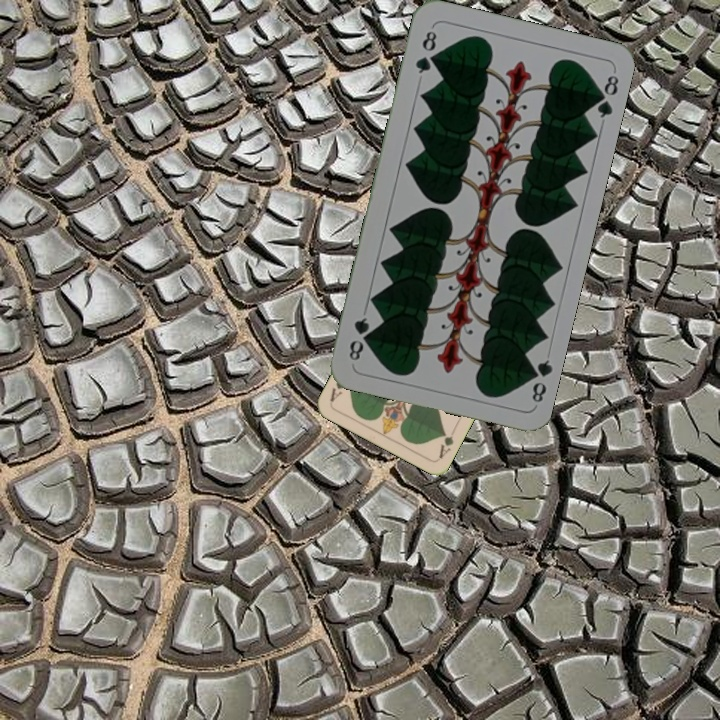G8: (523, 355, 555, 405), (411, 26, 439, 77)
GA: (434, 426, 456, 461)
